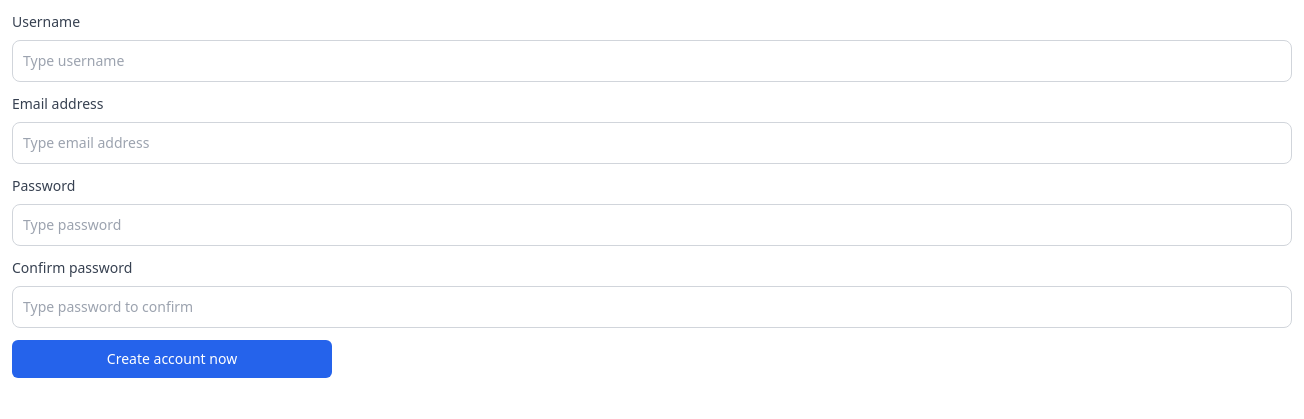
Test: Form sign up component › validates email format
In the field with placeholder "Type email address": (652, 143) x1=12 y1=122 x2=1292 y2=164, type "invalid-email"
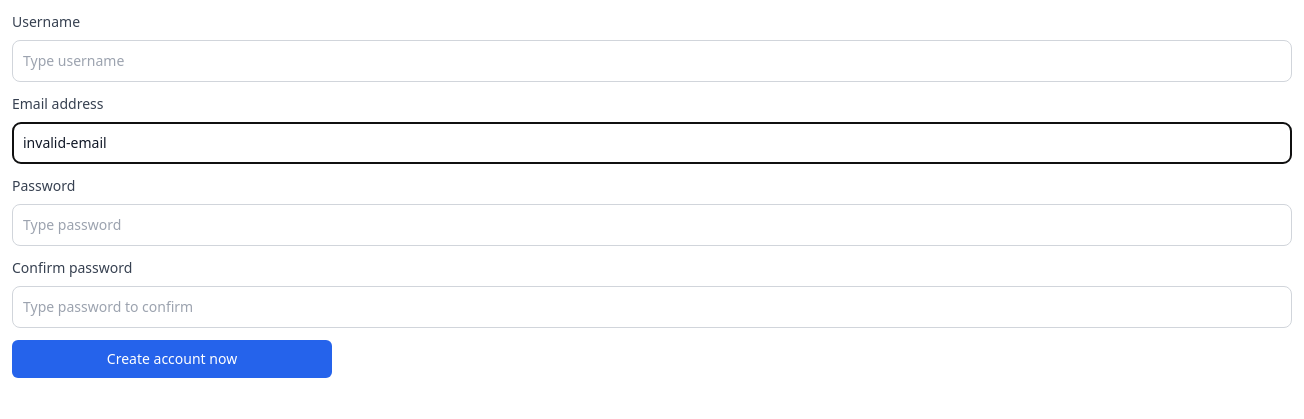
Press Tab
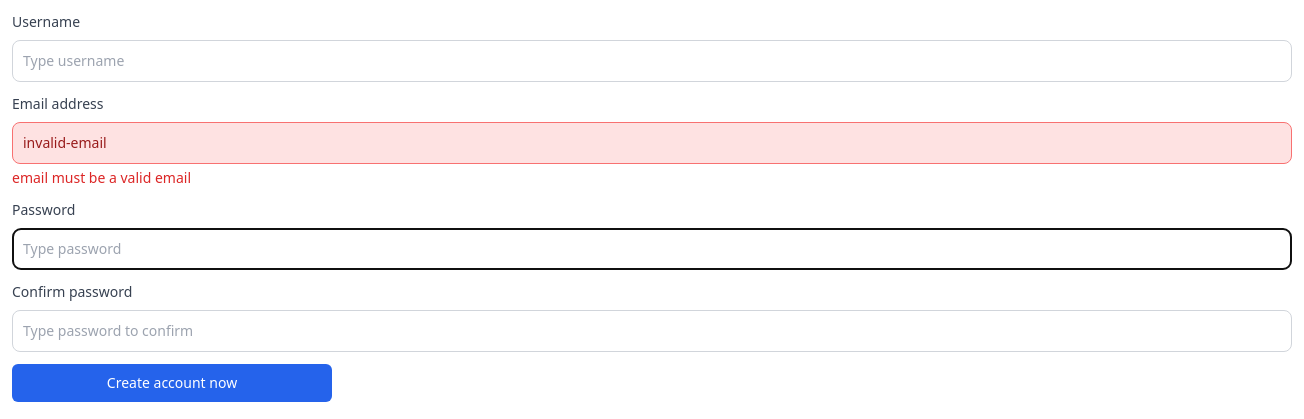
Now the text "email must be a valid email" is shown, box x1=12 y1=168 x2=191 y2=187
